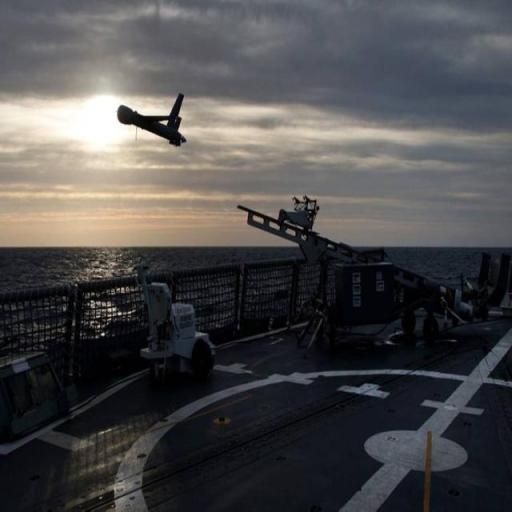uav: (112, 87, 201, 171)
